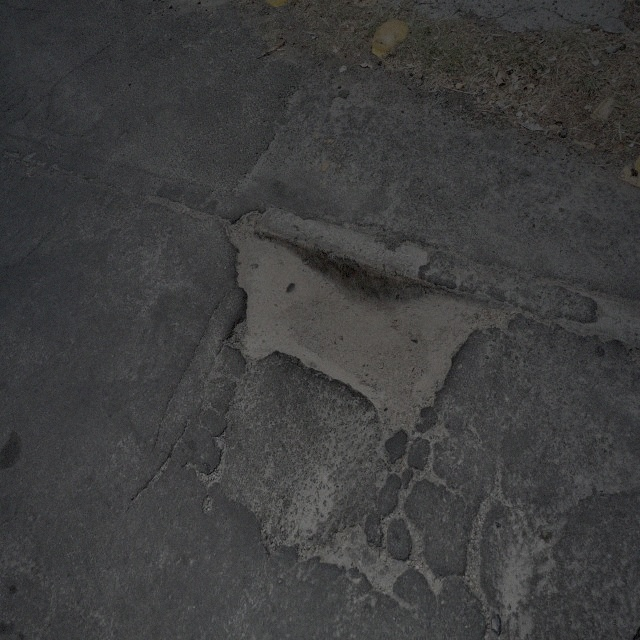pothole: (225, 204, 513, 449), (208, 352, 384, 580), (550, 274, 632, 359)
